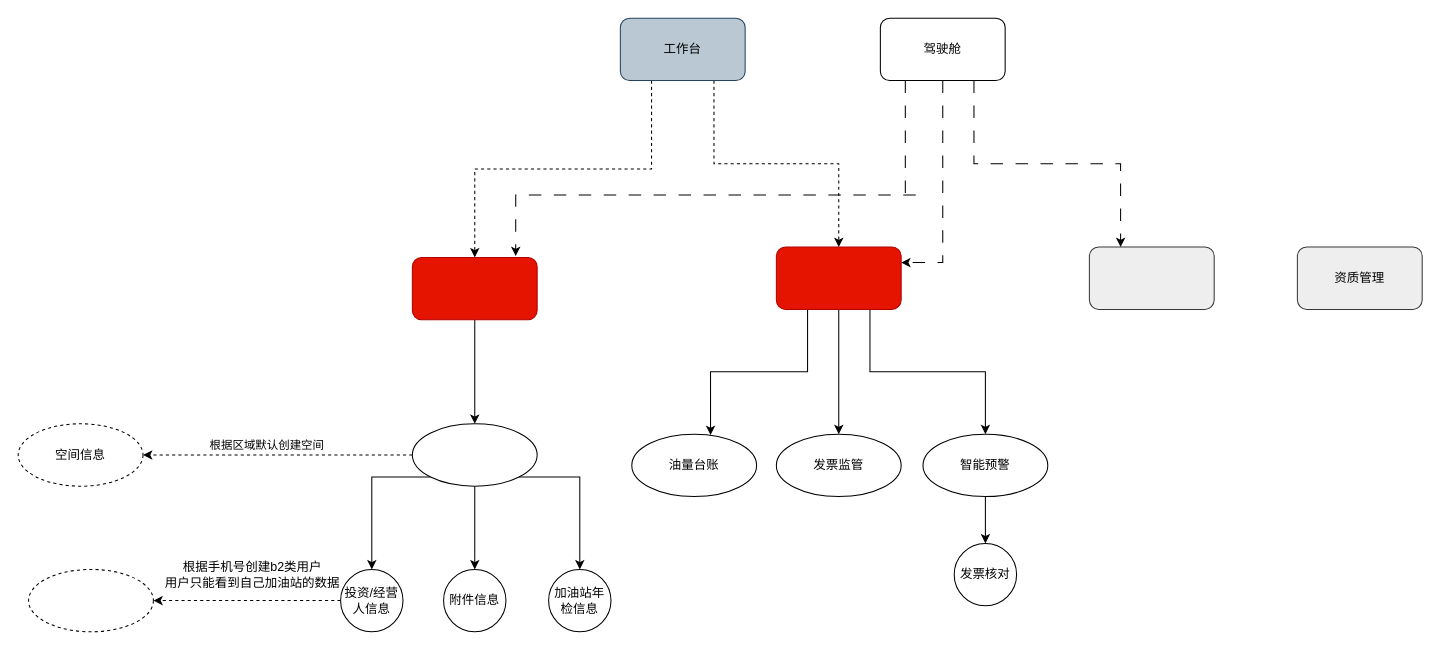
Some shapes in this 1440 by 650 pixel diagram are drawn without their labels. Here are the shapes that lost their labels. From the top down, the box of each, then its label:
(411, 256, 537, 320): 档案管理
(775, 246, 901, 309): 流通管理
(1088, 246, 1214, 309): 智能监控
(411, 423, 537, 486): 加油站的基本信息
(28, 568, 153, 632): b类用户信息
